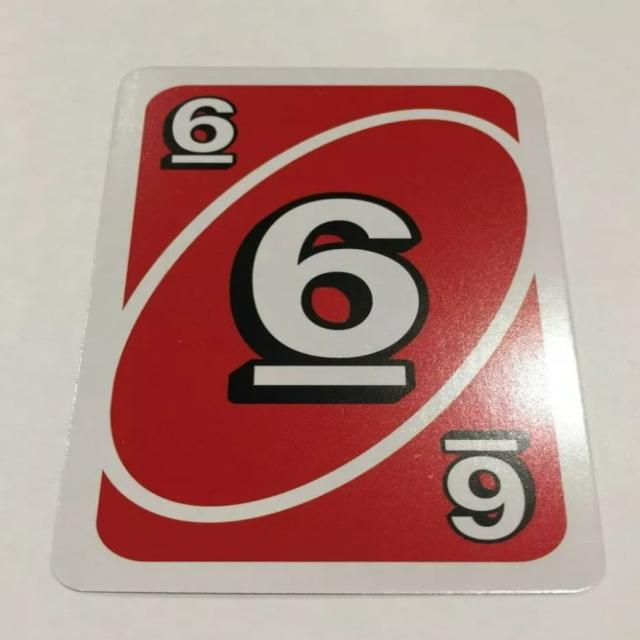Number_6: (161, 93, 248, 173)
Red_Card: (90, 80, 576, 568)
